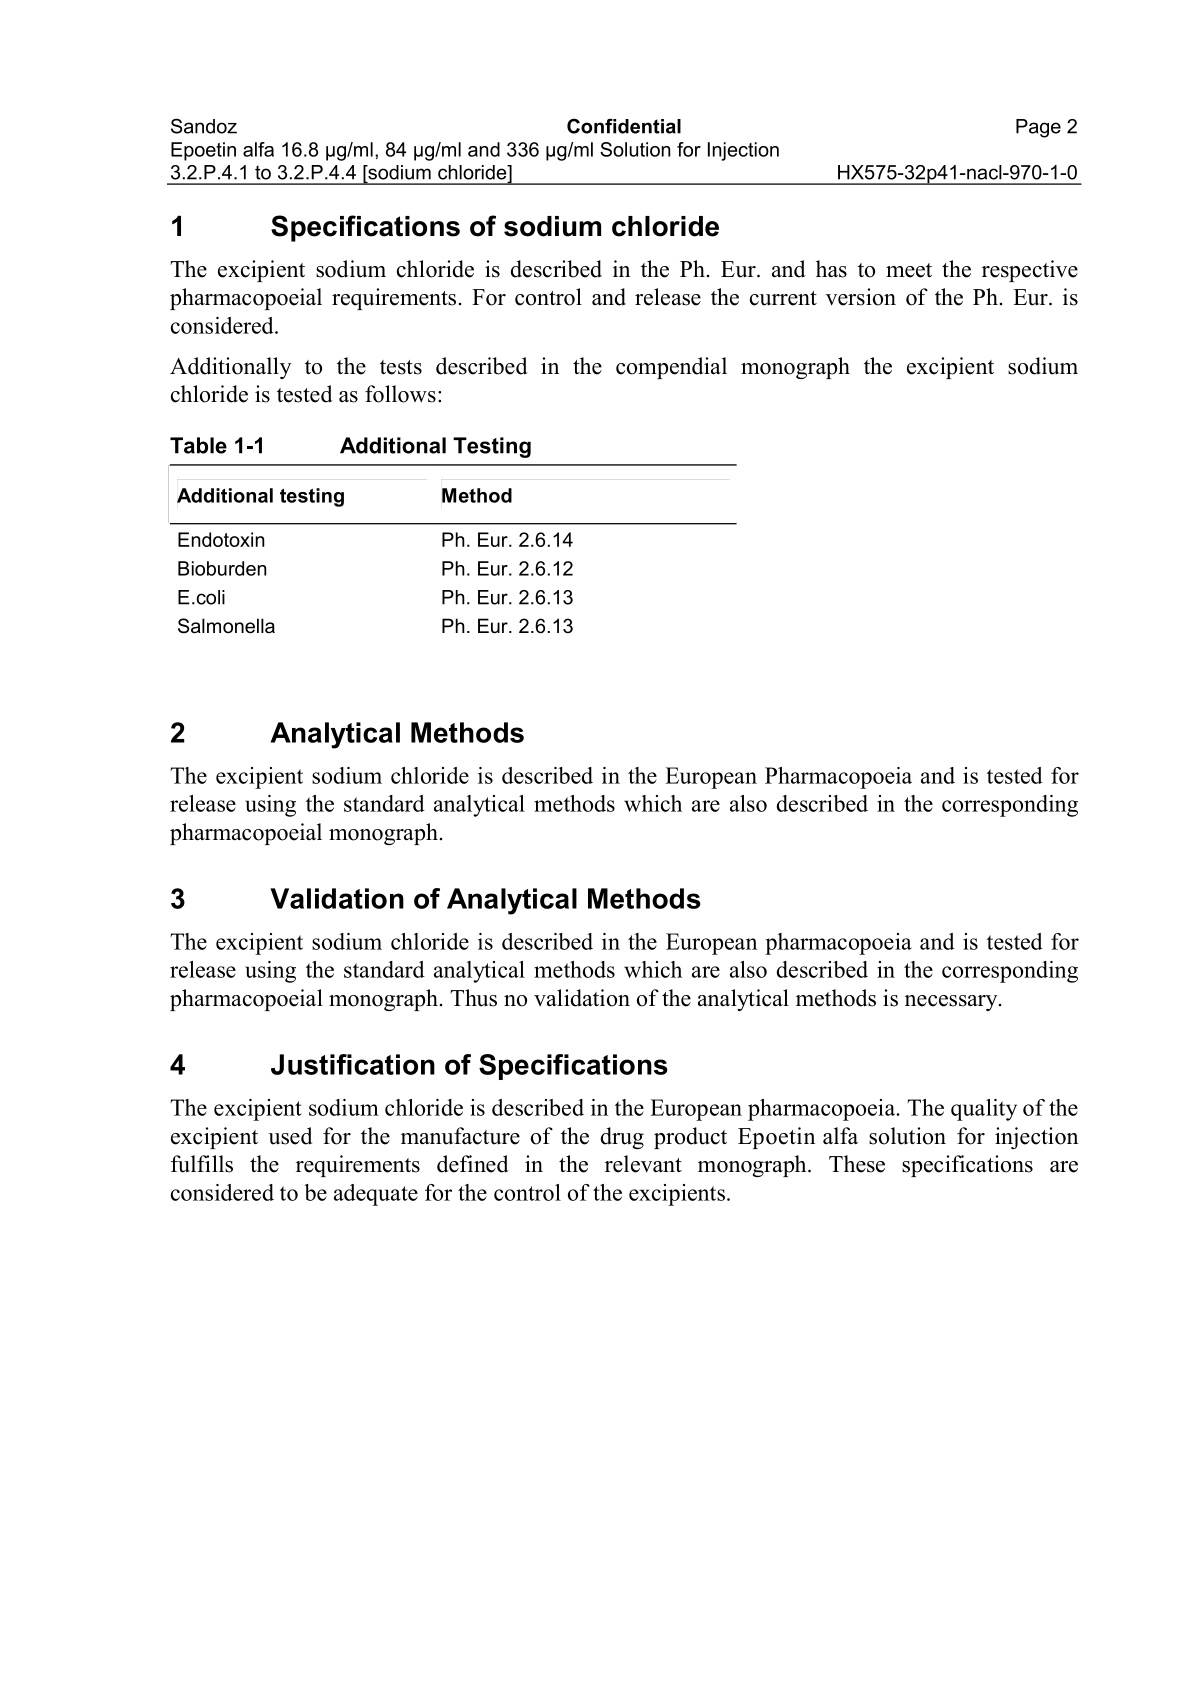partial_lined: (166, 463, 739, 638)
